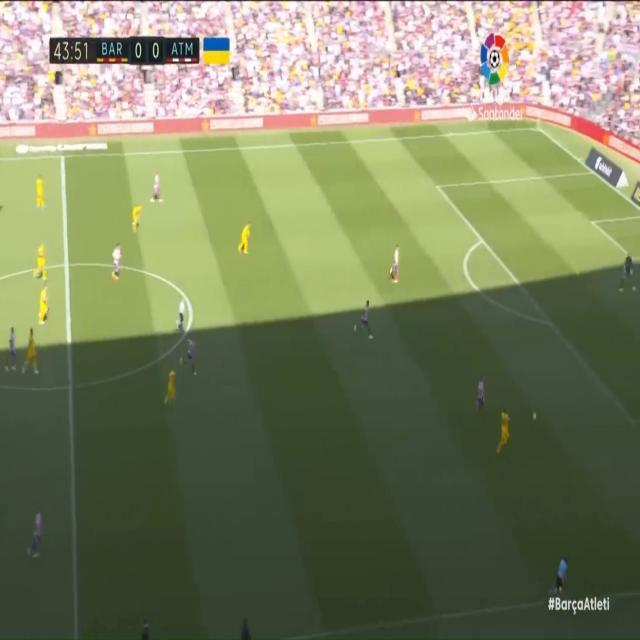ball: (532, 409, 540, 427)
goalkeeper: (615, 254, 640, 298)
player: (351, 295, 379, 345), (21, 506, 45, 563), (21, 327, 44, 373), (237, 216, 259, 262), (31, 235, 47, 295), (34, 165, 52, 213), (472, 376, 493, 415), (495, 410, 513, 455), (389, 246, 406, 292), (126, 198, 147, 235), (162, 363, 180, 406), (5, 323, 19, 375), (183, 334, 199, 377), (38, 282, 52, 330), (110, 237, 124, 281), (147, 174, 163, 204)
referee: (553, 553, 576, 607), (174, 294, 189, 330)
